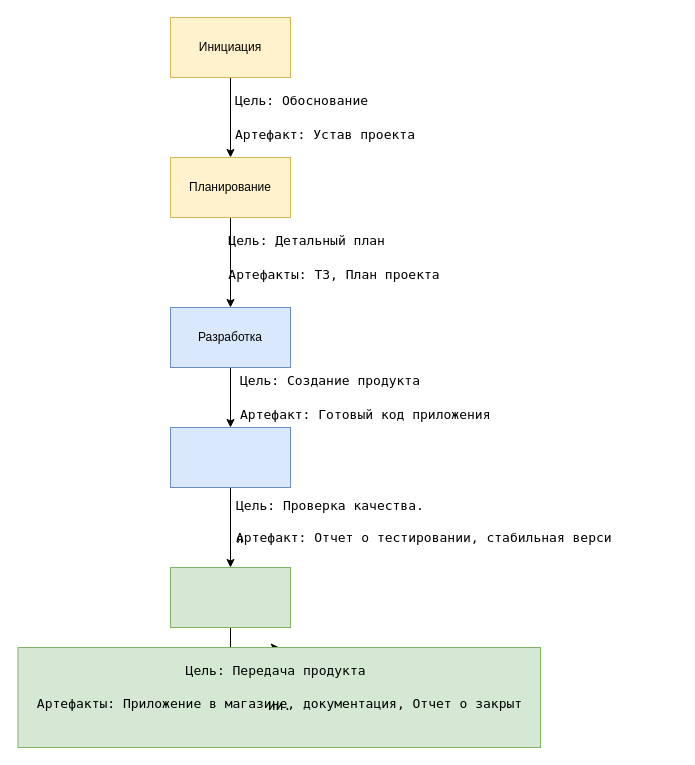
This 695x765 diagram has some shape labels left out. Here are the shapes that lost their labels. From the top down, the centre of each, then its label:
At pixel 230 457: "Тестирование".
At pixel 230 597: "Завершение".
